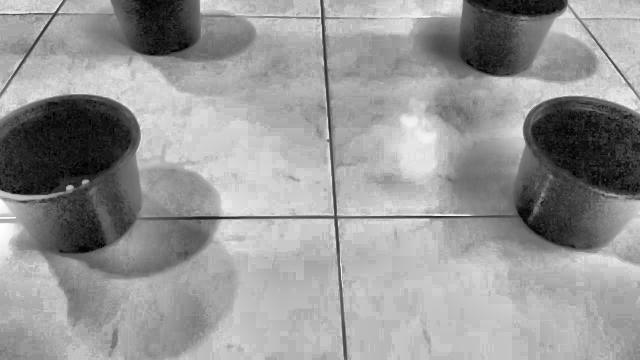pot: (0, 95, 142, 254), (513, 96, 640, 249)
